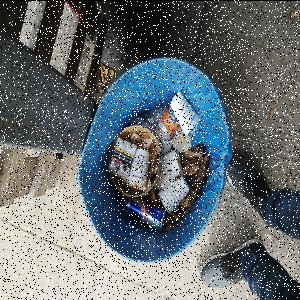Can: (124, 198, 168, 233), (155, 106, 179, 144)
Cup: (170, 87, 201, 135), (160, 176, 192, 217), (126, 148, 152, 192), (164, 149, 184, 177), (174, 134, 194, 154)
Trash: (110, 135, 139, 183)
